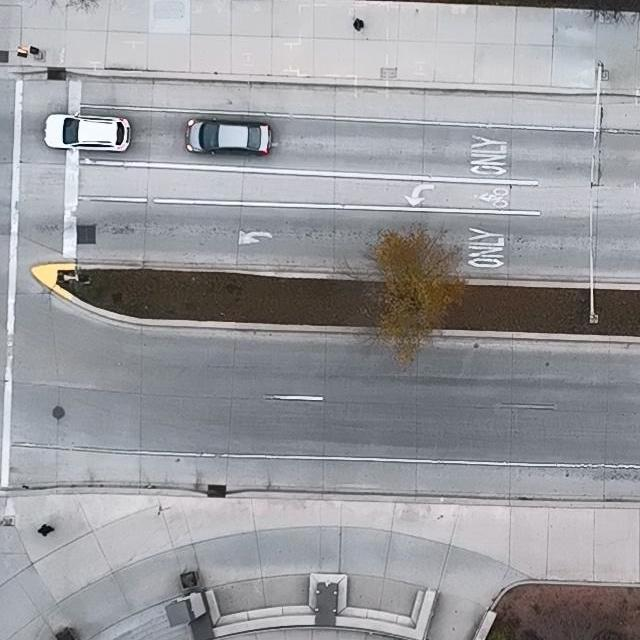car: (44, 110, 132, 153), (185, 117, 274, 157)
